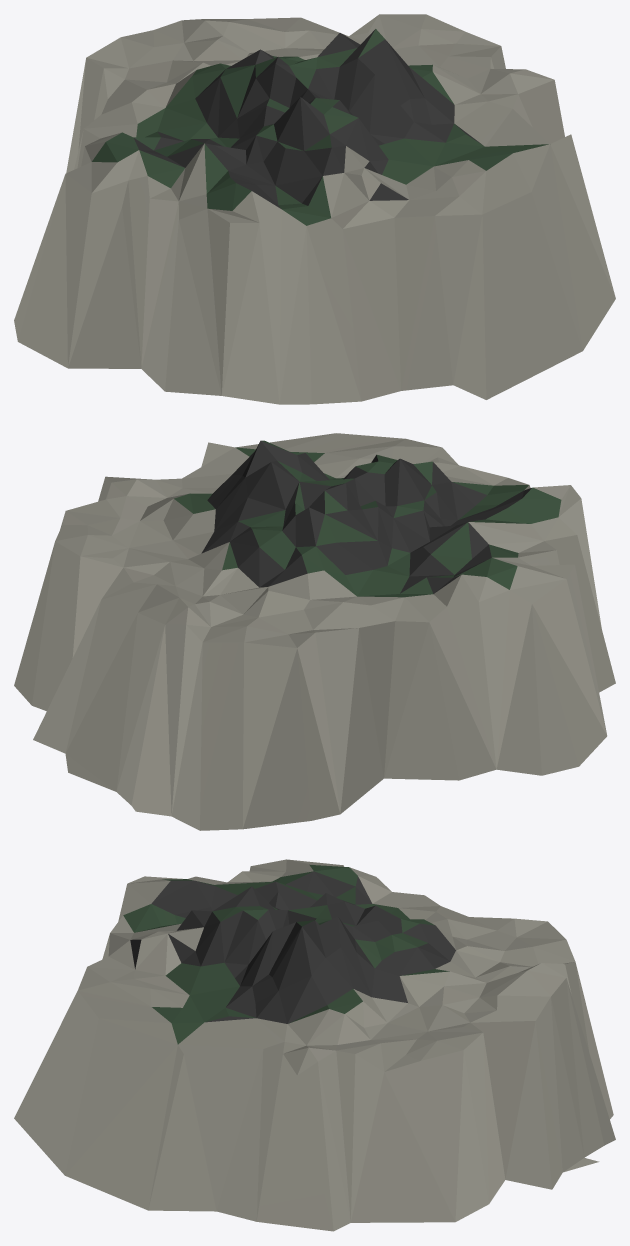
File: rock07.fbx
3 views of the same model, one above another, from view 1: azimuth 30°, elevation 25°; view 2: azimuth 150°, elevation 25°; view 3: azimuth 270°, elevation 25° (orthographic). The views are drawn at different scales.
Visible parts, largest first — view 1: islet011; view 2: islet011; view 3: islet011.
Part boxes in pixels (x1,y1,x2,y2): islet011: [14, 14, 615, 404]; islet011: [14, 433, 615, 830]; islet011: [14, 859, 615, 1231].
Size of the model in its own units: 3.71 by 3.55 by 1.63.
